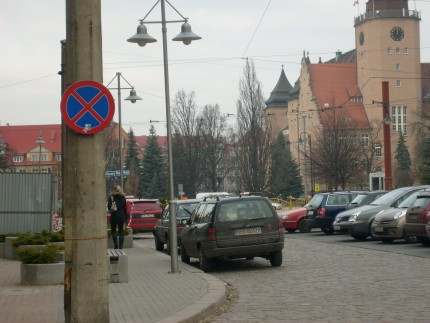no_stopping_sign: (60, 80, 116, 135)
